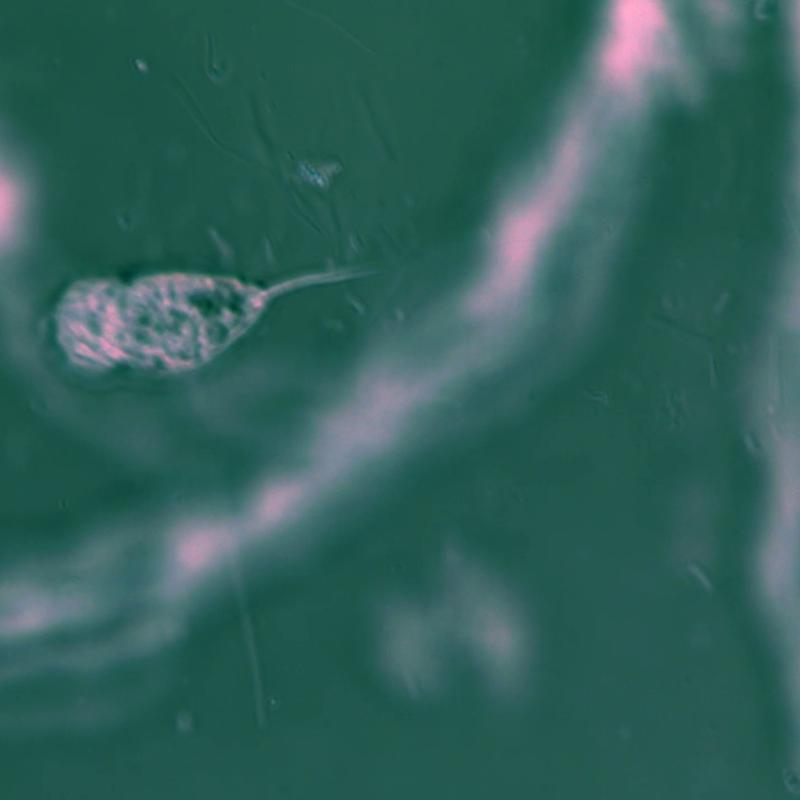depth:40: (28, 240, 403, 408)
